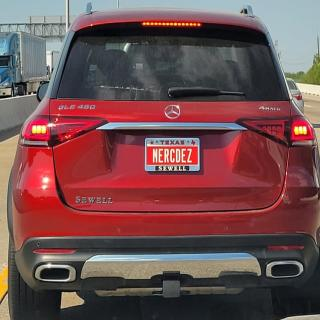license: (145, 138, 201, 172)
